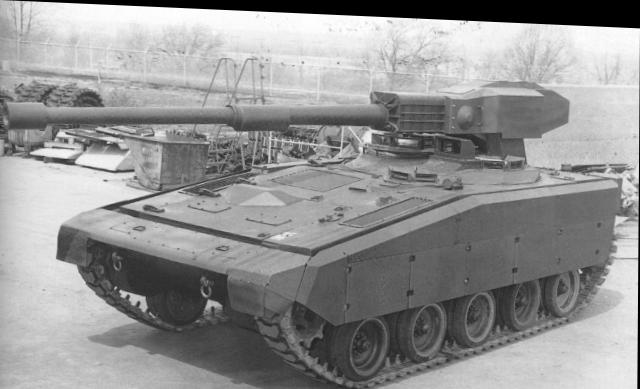tank: (52, 61, 625, 380)
